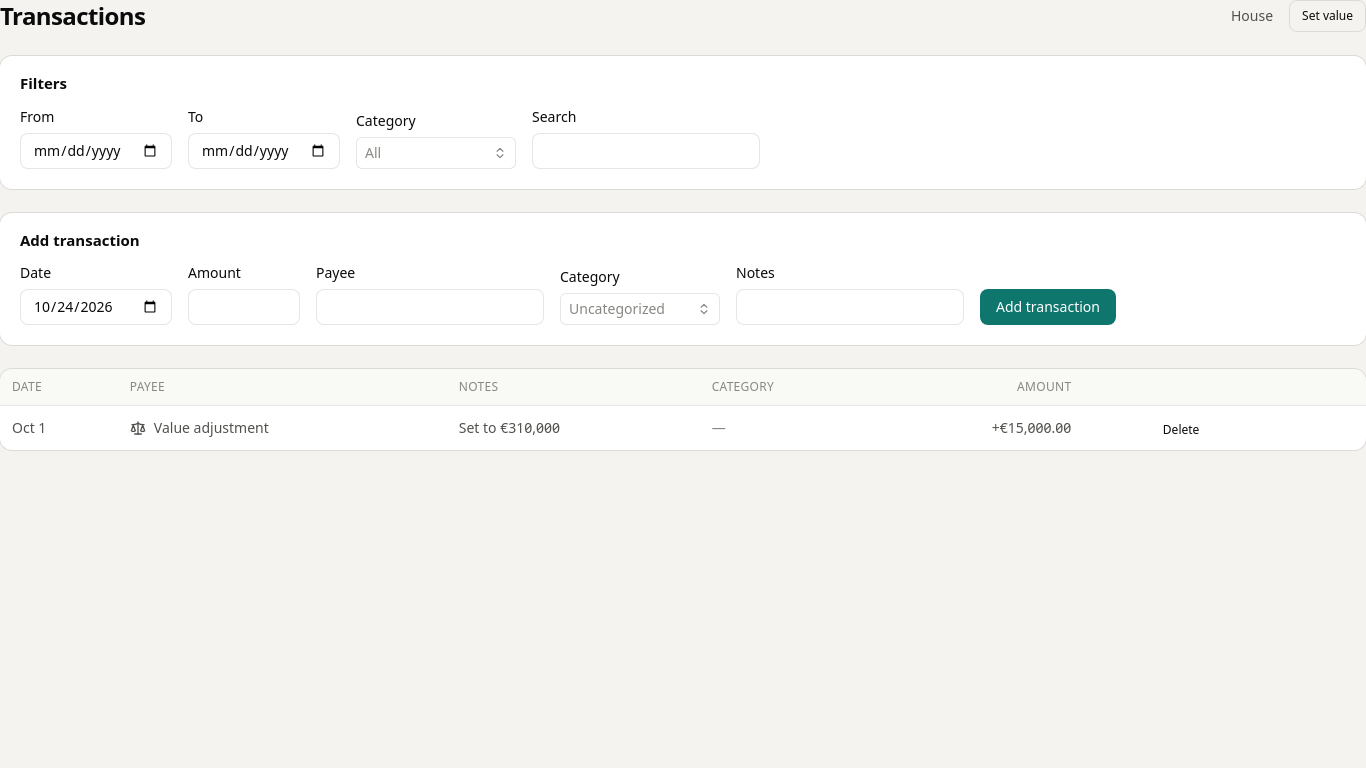
Scenario: Set value › sets the house's value, previewing the adjustment
Click the button "Set value". click: [1328, 16]
box: x1=1289 y1=0 x2=1365 y2=32
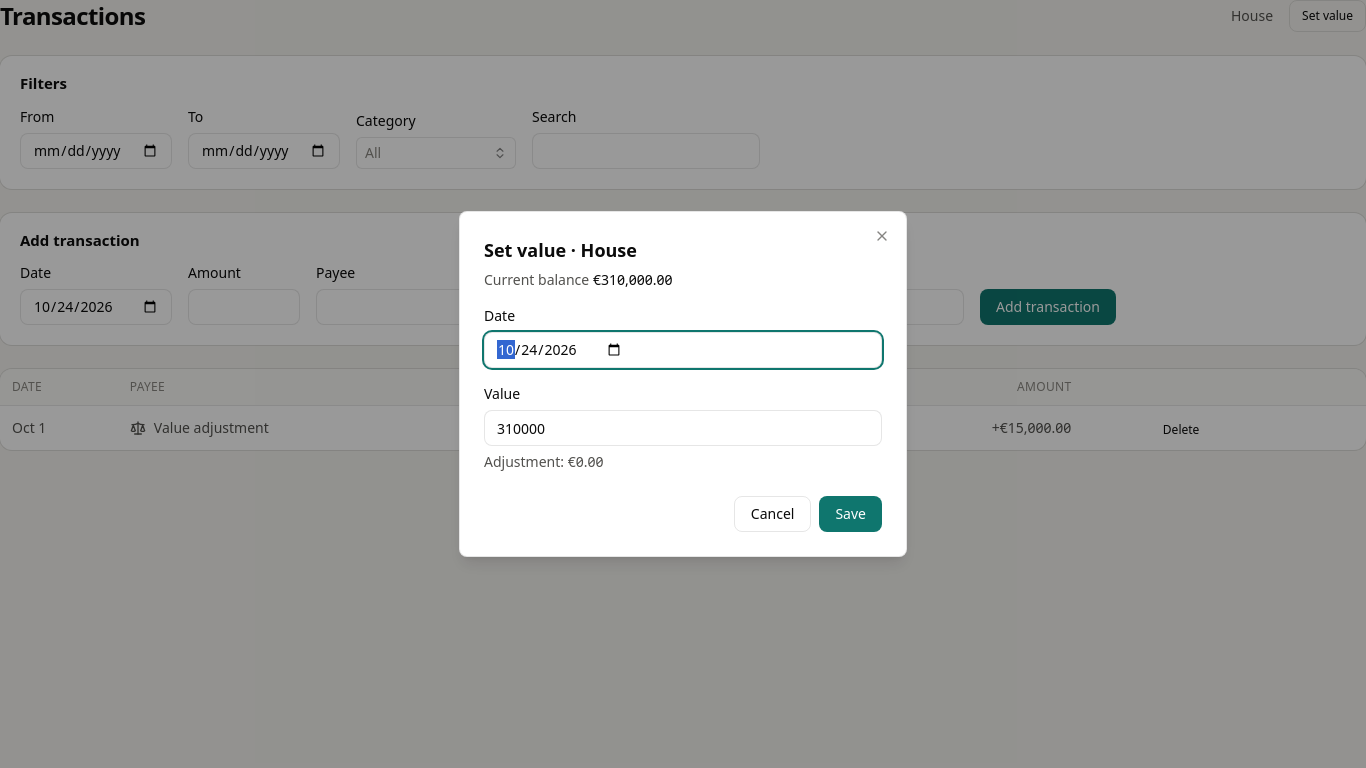
expect the date field labelled "Date" holds "2026-10-24": met, box x1=484 y1=332 x2=882 y2=368
expect the number field labelled "Value" holds "310000": met
Replace the text in the number field labelled "Value" with "325000". click: [683, 428]
box: x1=484 y1=410 x2=882 y2=446
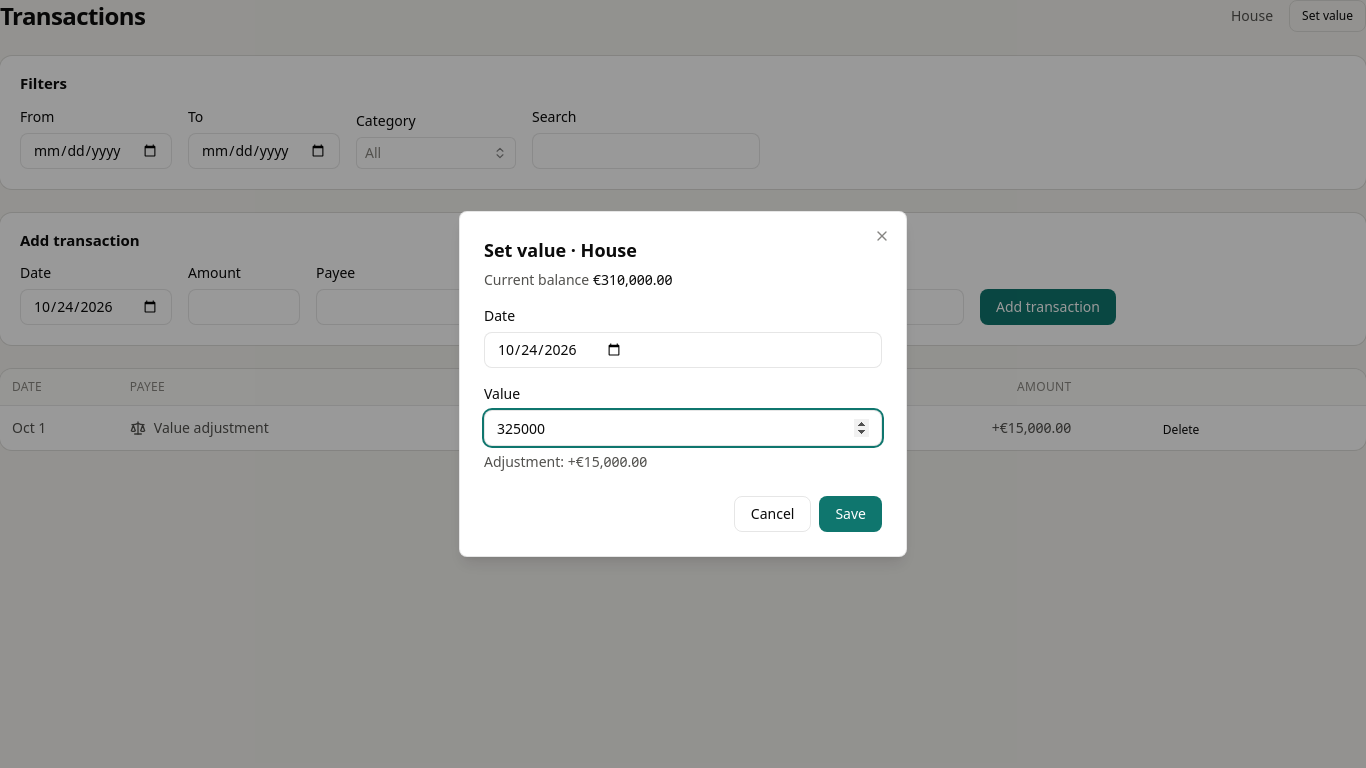
Click the button "Save". click: [851, 514]
box: x1=819 y1=496 x2=882 y2=532
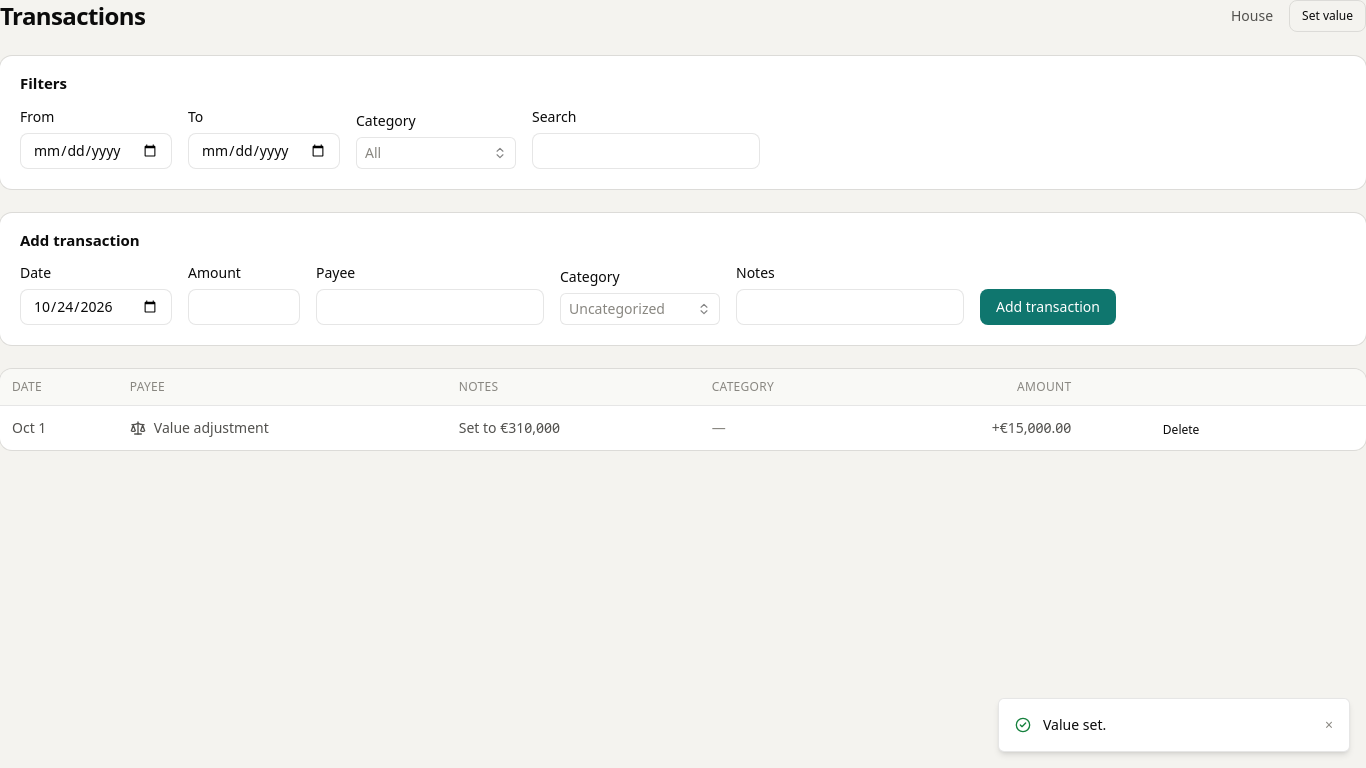
expect the dialog is gone: met
